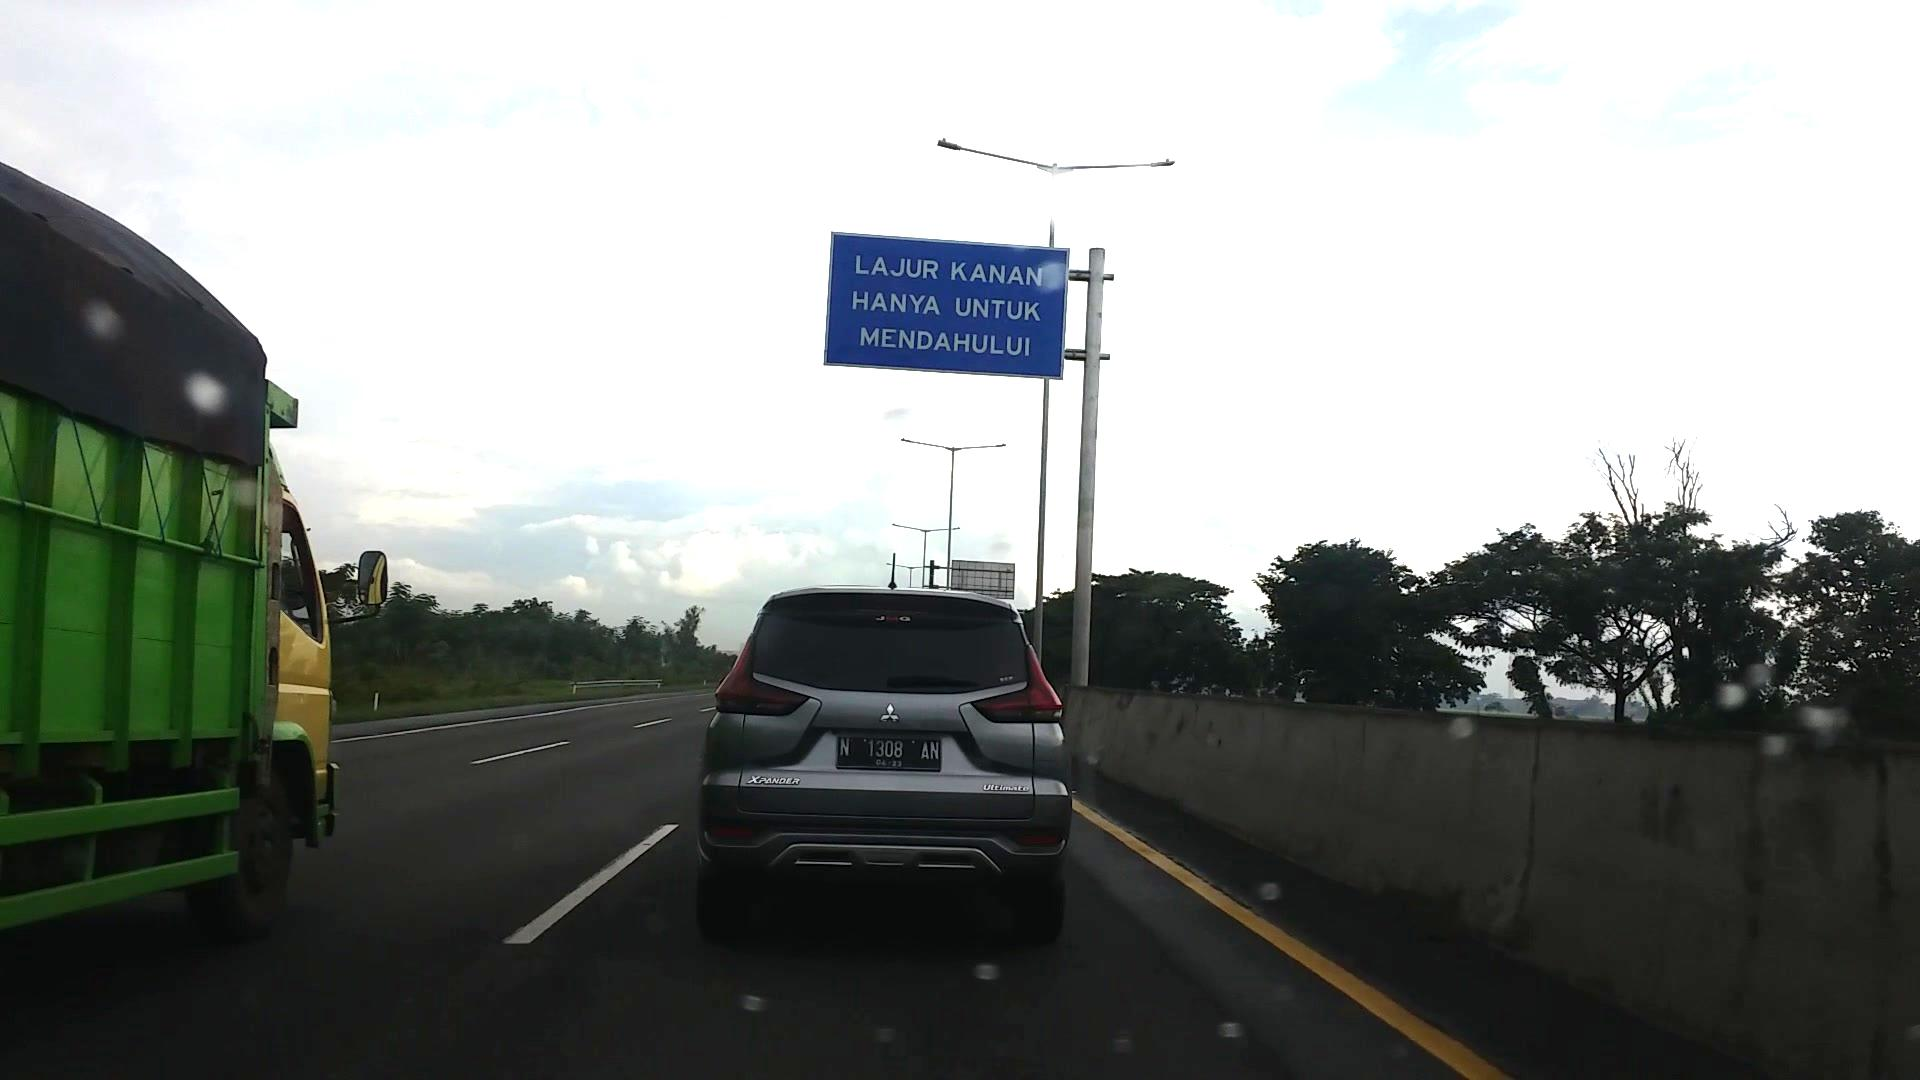plate_positive: (836, 735, 942, 771)
